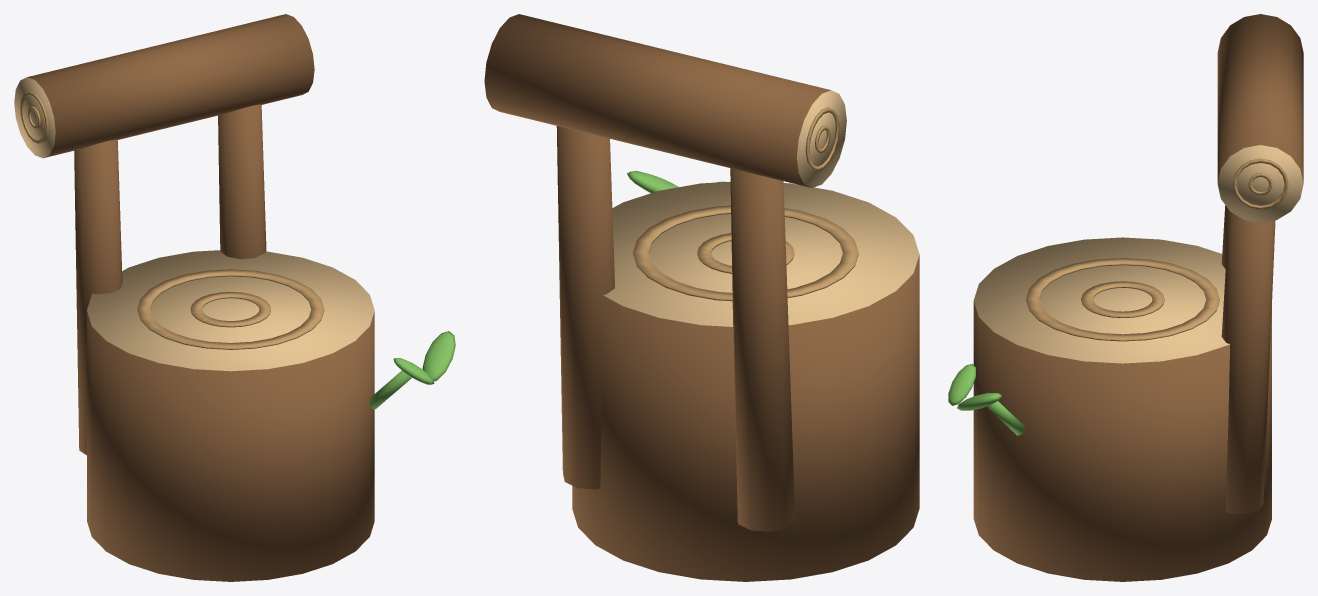
File: log-chair.glb
3 renders of one model, left to right at view 1: azimuth 30°, elevation 25°; view 2: azimuth 150°, elevation 25°; view 3: azimuth 270°, elevation 25°, orthographic. The views are drawn at different scales.
Parts seen in each view (by area): view 1: chair; view 2: chair; view 3: chair.
Boxes of the visible parts, x1,y1,x2,y2 form: chair: [14, 14, 455, 581]; chair: [484, 14, 919, 581]; chair: [948, 14, 1303, 581].
Size of the model in its own units: 0.6063 by 0.845 by 0.6192.
